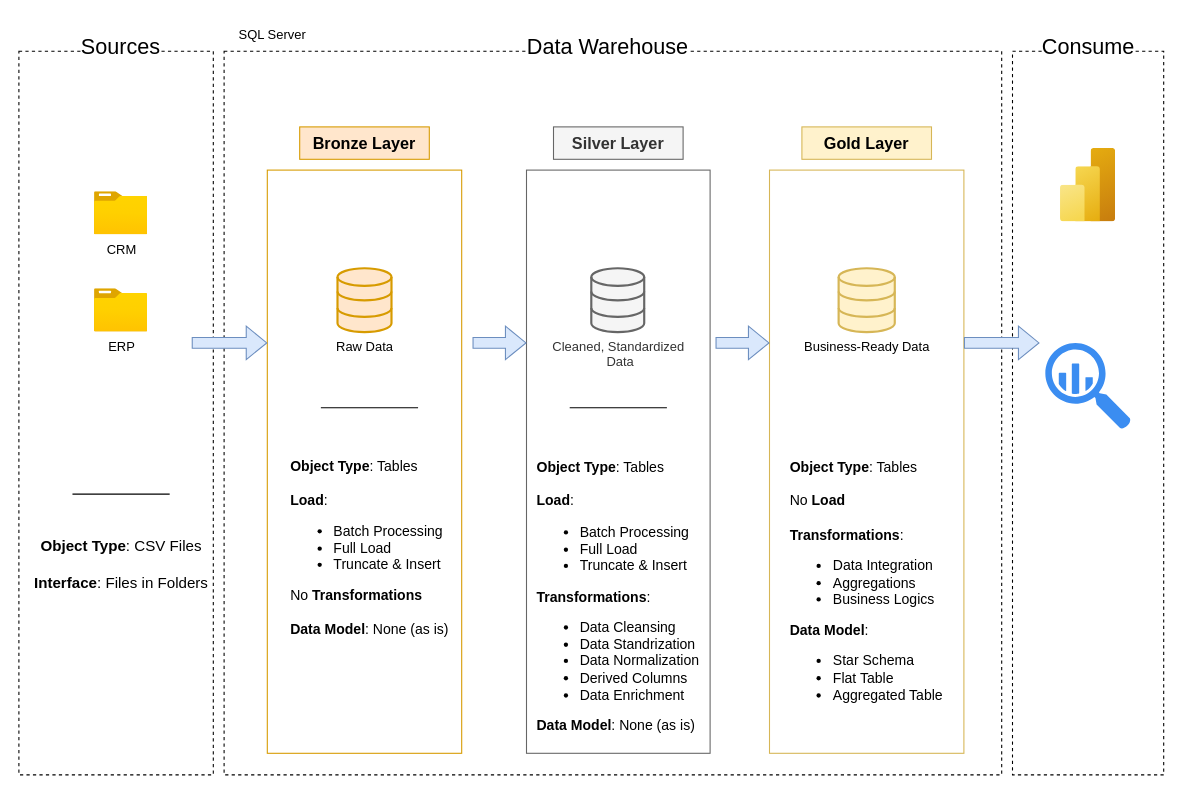
Some shapes in this 1183 by 794 pixel diagram are drawn without their labels. Here are the shapes that lost their labels. From the top down, the centre of each, then its label:
At (1087,184): "BI & Reporting".
At (1087,385): "Ad-Hoc SQL Queries".
